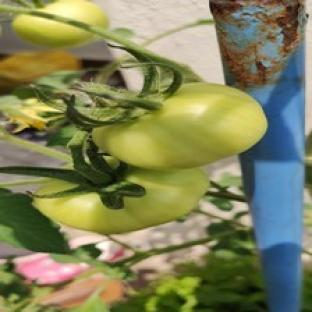Tomato: (92, 83, 267, 168), (34, 169, 208, 233), (13, 14, 94, 47)
